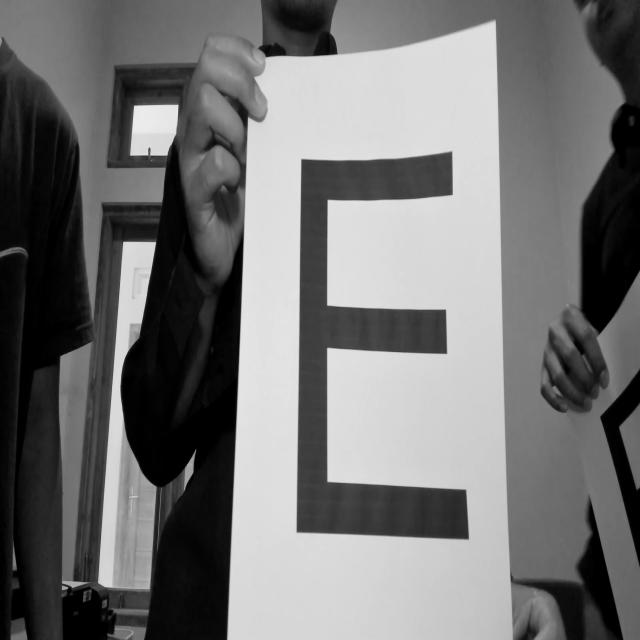e: (277, 135, 488, 561)
